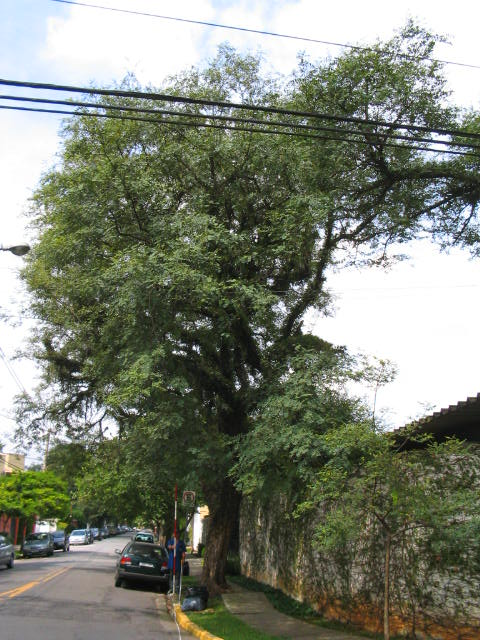crown: (24, 17, 474, 415)
stem: (190, 492, 256, 597)
stick: (167, 482, 181, 594)
tree: (20, 14, 475, 598)
